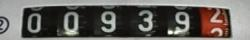digits: (208, 6, 226, 38), (137, 9, 153, 31), (62, 11, 78, 32), (100, 10, 115, 32), (174, 11, 190, 31), (27, 12, 41, 33)
